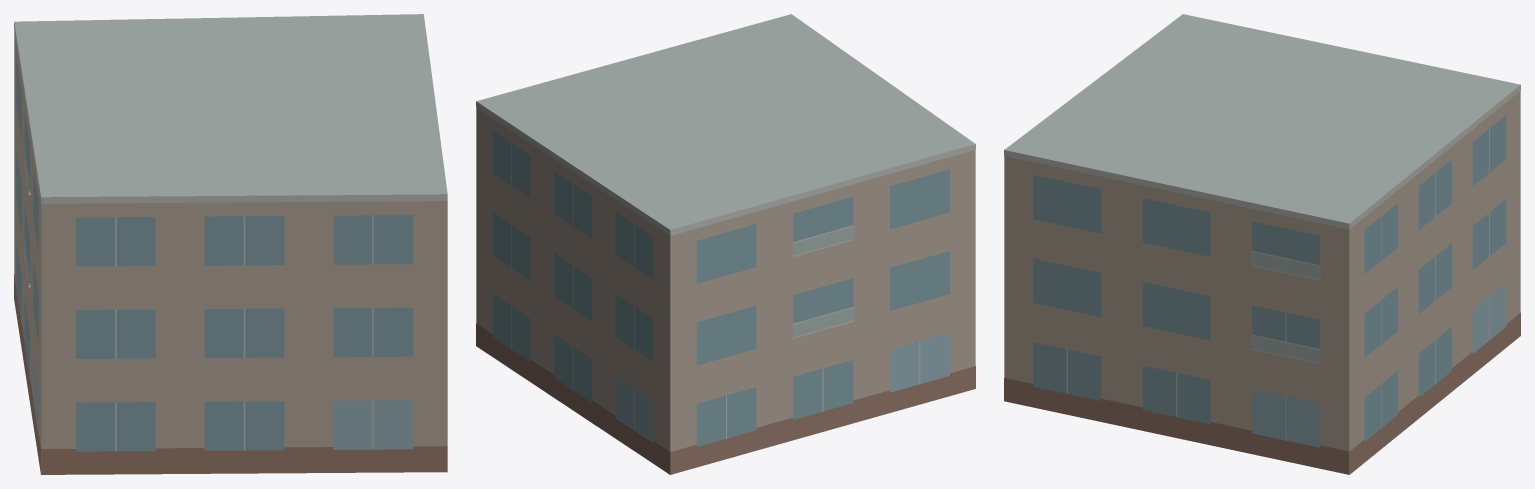
Rendered from survey-upis-32870621.glb.
3 renders of one model, left to right at view 1: azimuth 30°, elevation 25°; view 2: azimuth 150°, elevation 25°; view 3: azimuth 270°, elevation 25°, orthographic. The views are drawn at different scales.
Parts seen in each view (by area): view 1: survey-upis-32870621.tmp; view 2: survey-upis-32870621.tmp; view 3: survey-upis-32870621.tmp.
Part boxes in pixels (x1=…): survey-upis-32870621.tmp: x1=14, y1=14, x2=447, y2=474; survey-upis-32870621.tmp: x1=476, y1=14, x2=975, y2=474; survey-upis-32870621.tmp: x1=1004, y1=14, x2=1520, y2=474.
Size of the model in its own units: 18.36 by 10.26 by 19.13.
